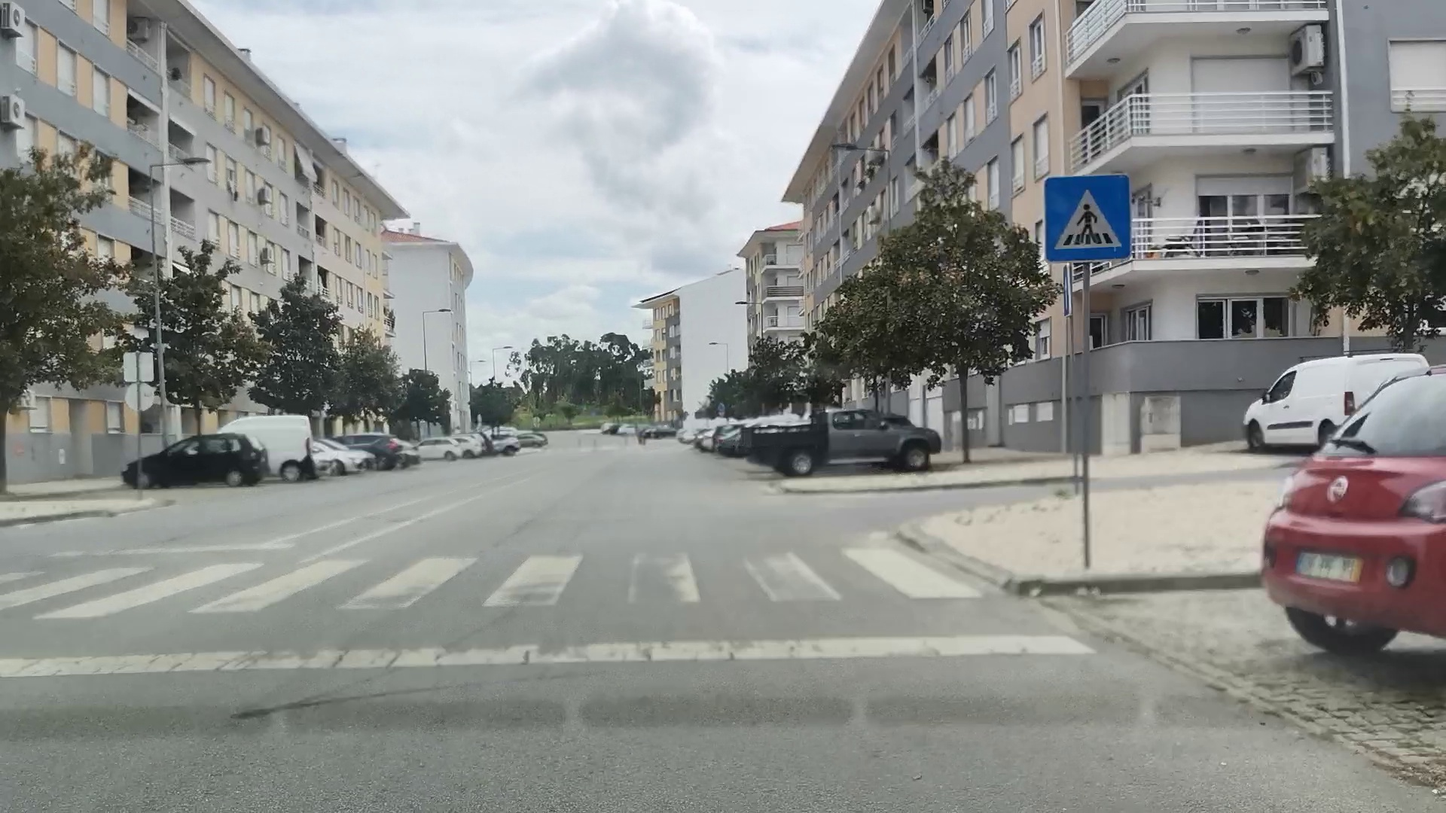Stairs: (0, 557, 992, 619)
